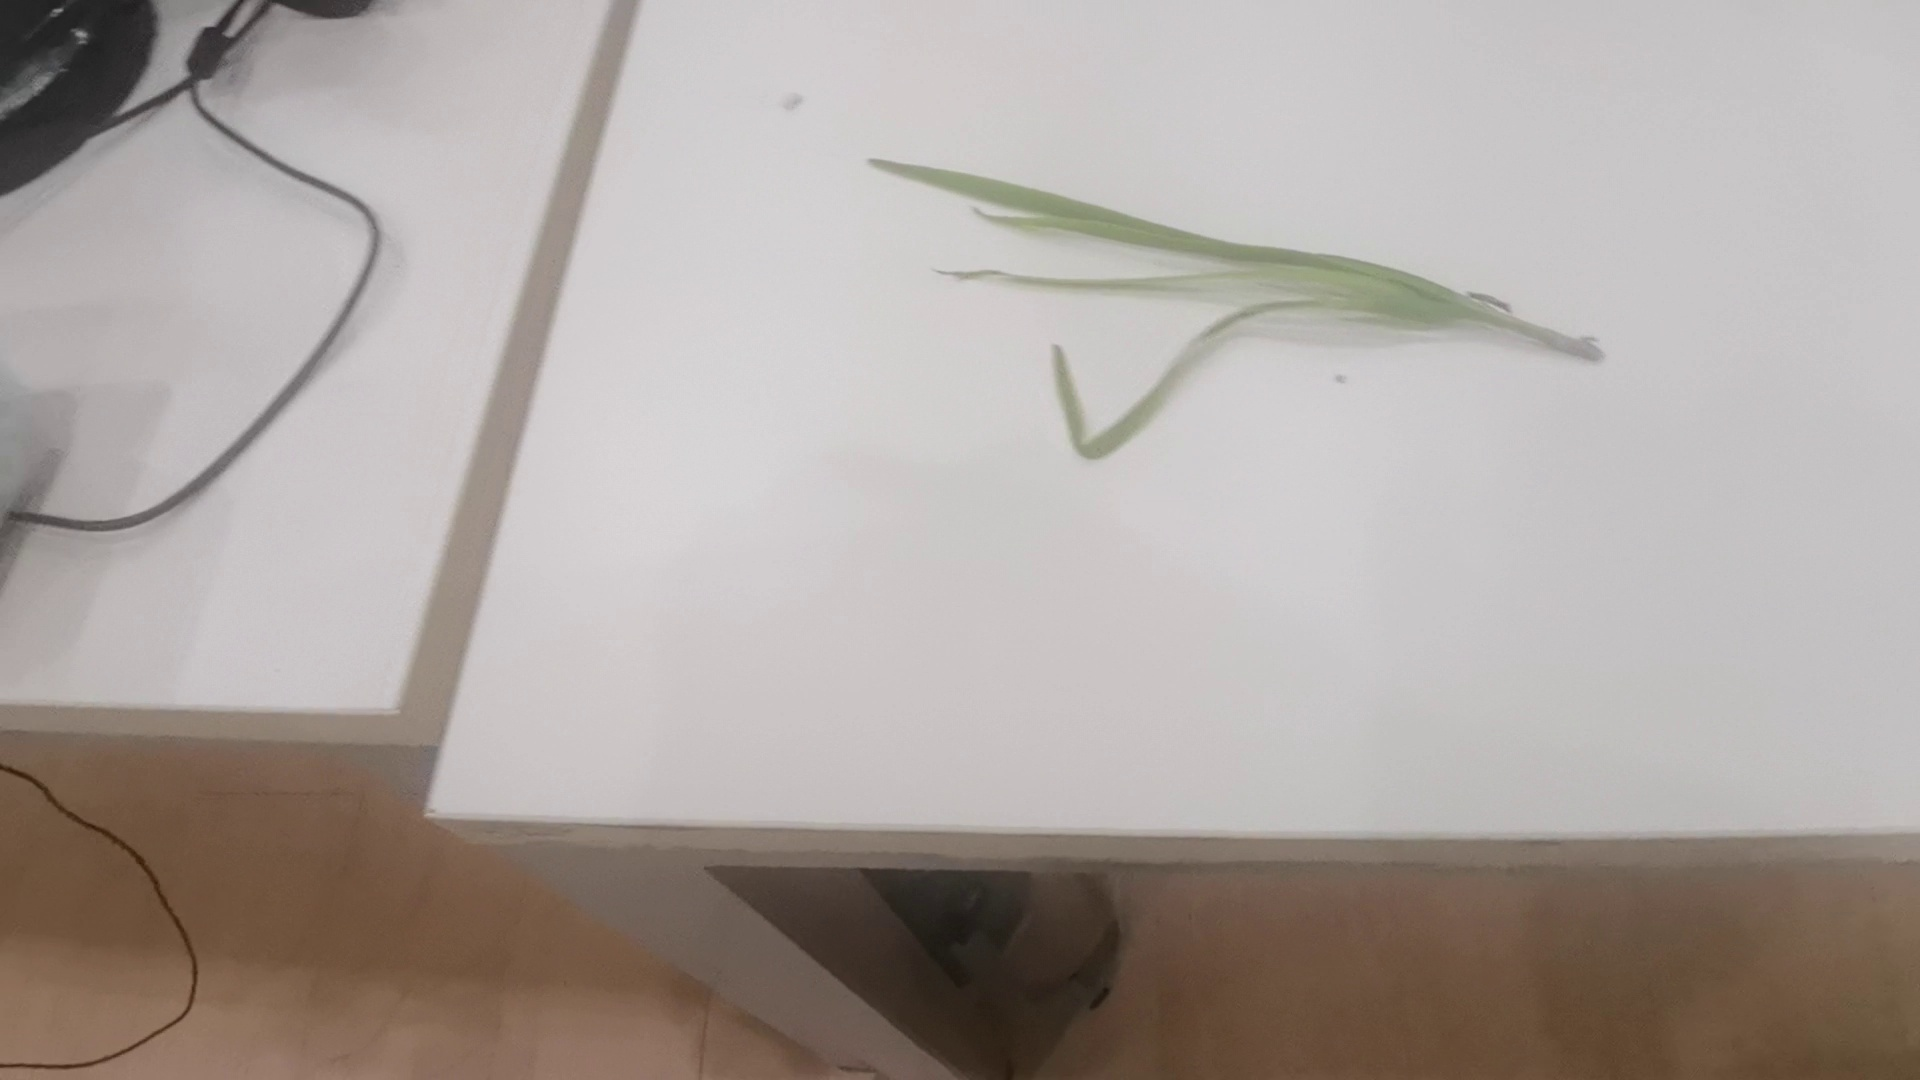chives: (860, 146, 1606, 456)
